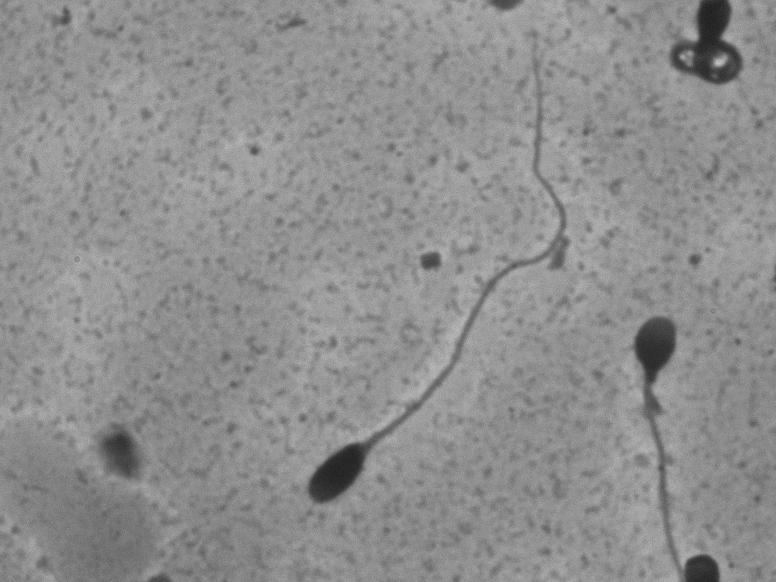Abnormal: (288, 21, 577, 530), (618, 298, 735, 559)
